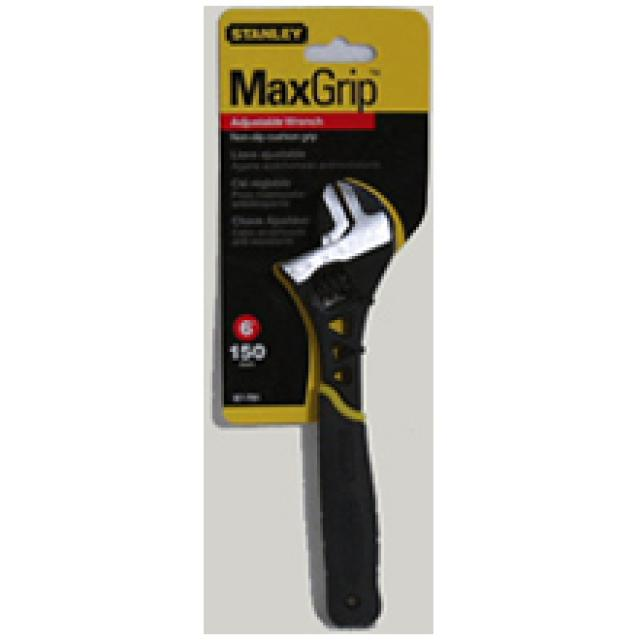wrench: (265, 168, 469, 640)
